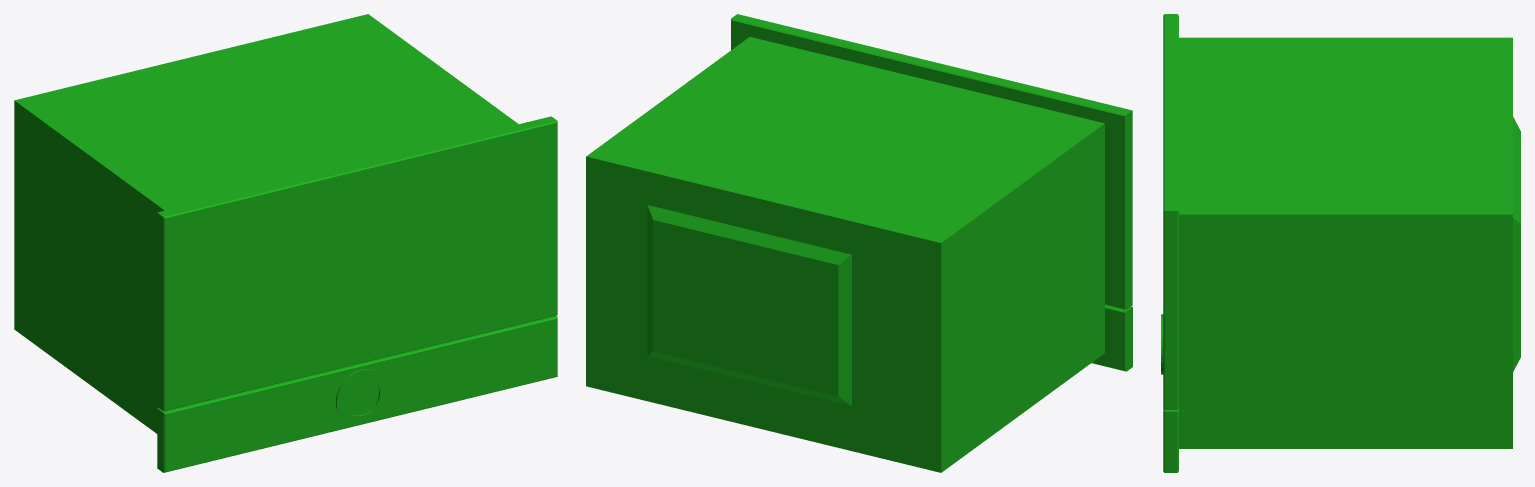
File: BOSCH BFL 634 GB1.obj
The picture shows the model from 3 angles, left to right: view 1: azimuth 30°, elevation 25°; view 2: azimuth 150°, elevation 25°; view 3: azimuth 270°, elevation 25°; orthographic projection. The views are drawn at different scales.
Parts seen in each view (by area): view 1: BOSCH_BFL_634_GB1; view 2: BOSCH_BFL_634_GB1; view 3: BOSCH_BFL_634_GB1.
Part boxes in pixels (box(x1,y1,x2,y2)): BOSCH_BFL_634_GB1: box(14, 14, 557, 472); BOSCH_BFL_634_GB1: box(586, 14, 1132, 472); BOSCH_BFL_634_GB1: box(1161, 14, 1520, 472).
Bounding box in the file's own units: 23.44 × 14.53 × 18.09.
